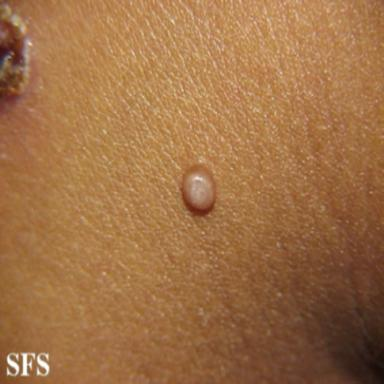Molluscum-Contagiosum: (182, 165, 216, 211)
